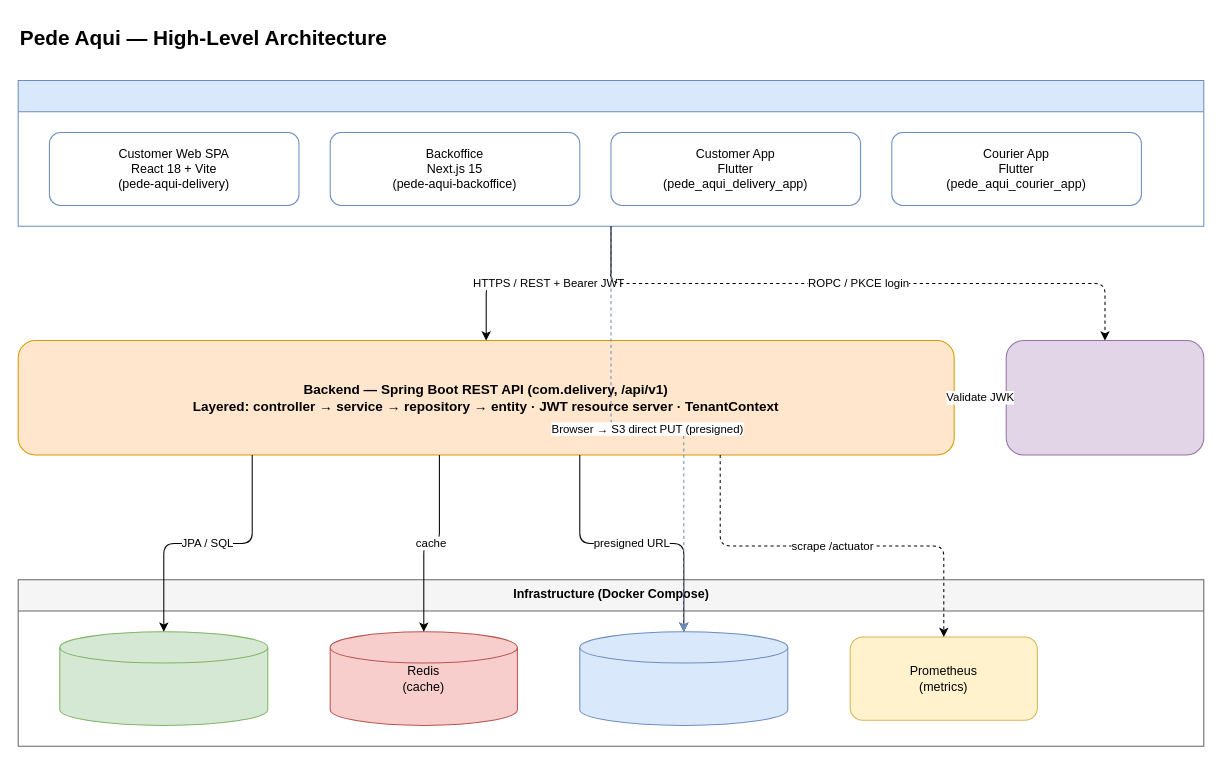
Image size: 1222x764. Some labels were removed from this diagram. The shapes that lost their labels are listed below. From the top down, each one's box as (x1, y1, x2, y2) in pixels, then its label:
(17, 80, 1204, 226): Client Applications
(1005, 340, 1204, 455): Keycloak Identity Provider (realm: delivery)
(59, 631, 268, 725): PostgreSQL + PostGIS (Flyway migrations)
(579, 631, 788, 725): MinIO / AWS S3 (object storage)
